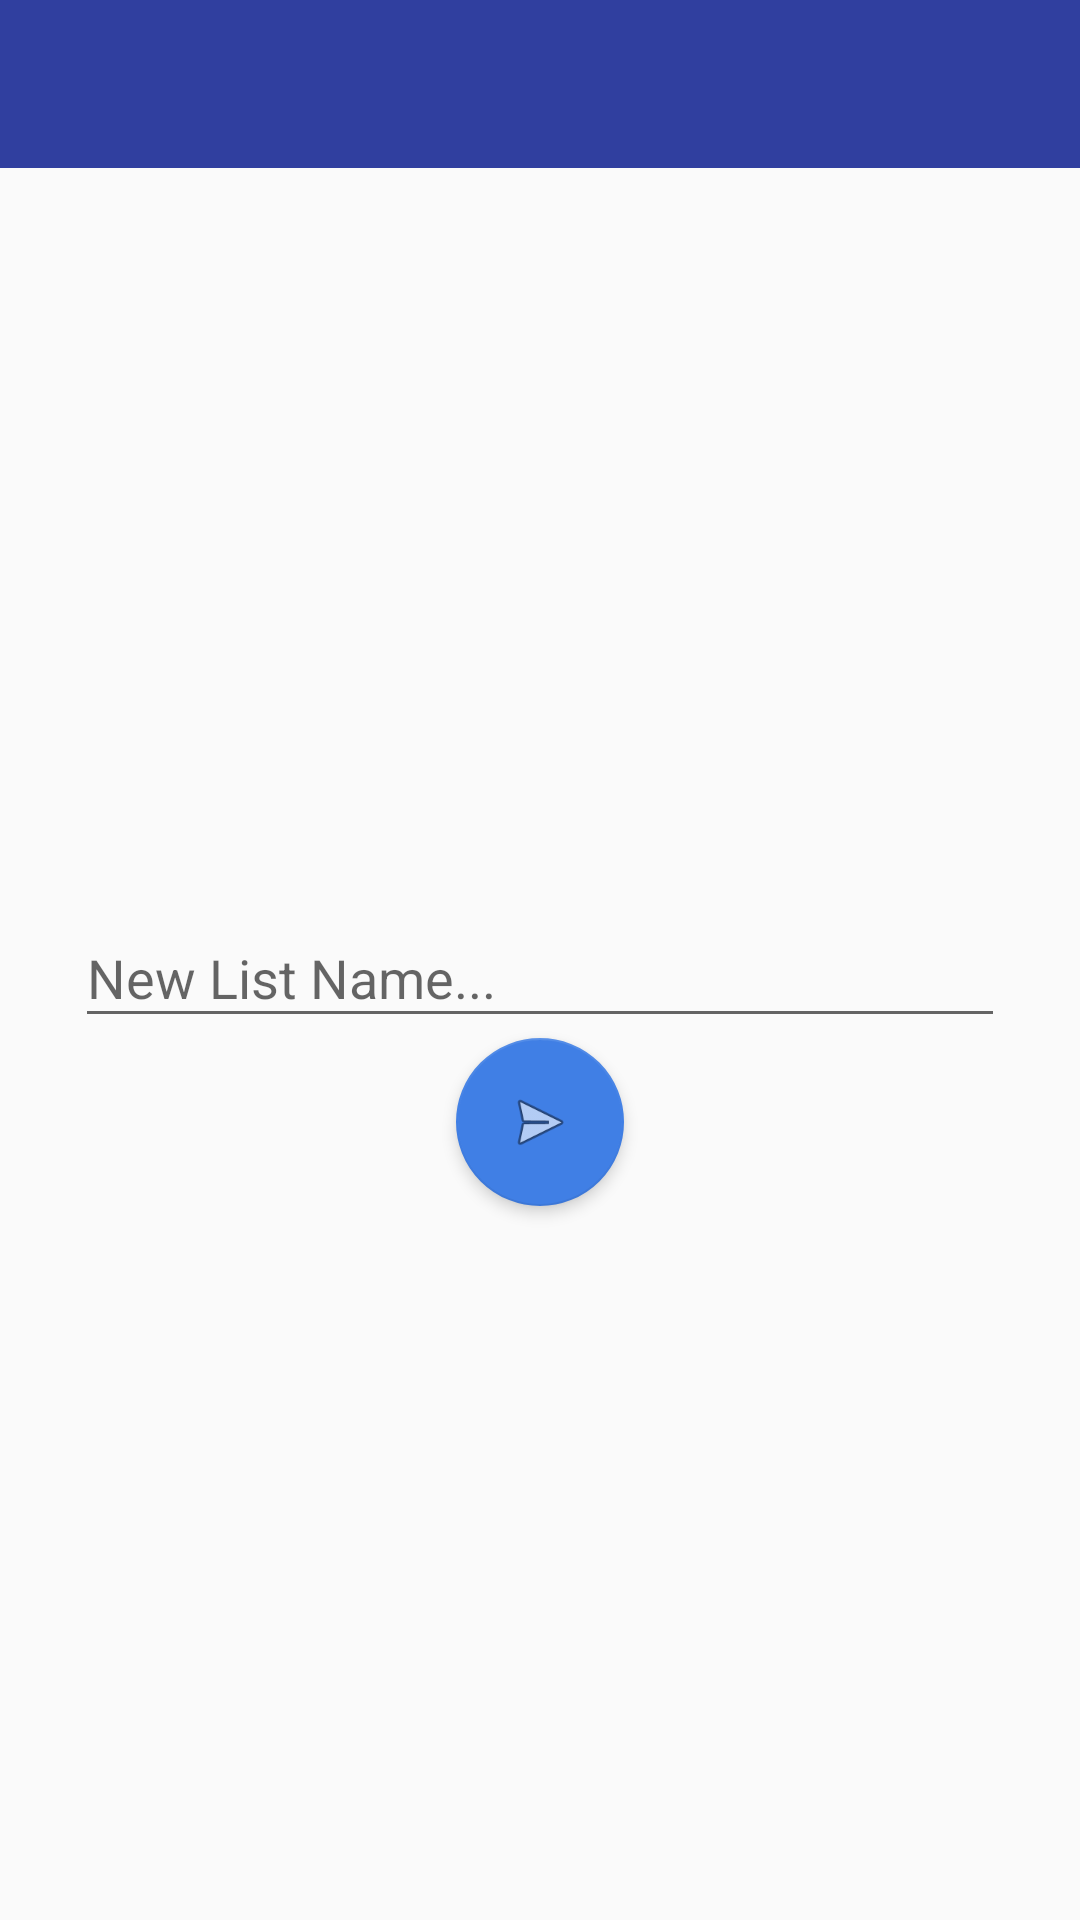

Where to tap for icons on this 1080px×1920px app screen, as (x=x, y=y):
send: (x=540, y=1122)
